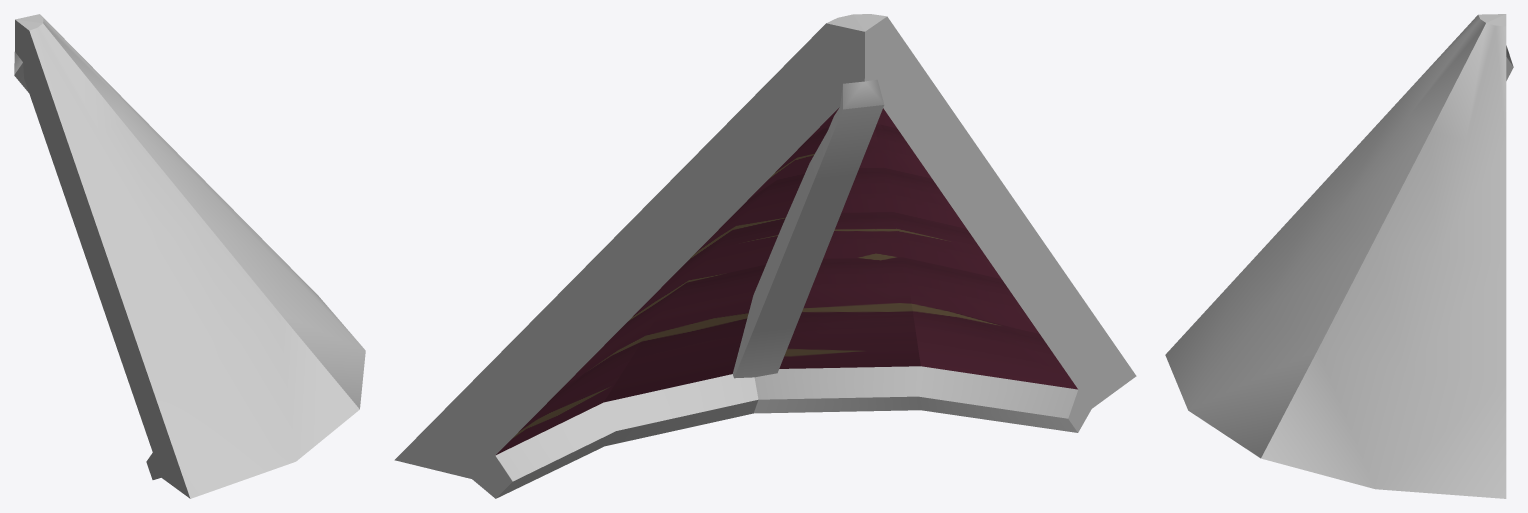
Rendered from SM_Bld_Roof_S_Straight_Corner_Out_02.fbx.
3 renders of one model, left to right at view 1: azimuth 30°, elevation 25°; view 2: azimuth 150°, elevation 25°; view 3: azimuth 270°, elevation 25°, orthographic. The views are drawn at different scales.
Visible parts, largest first — view 1: SM_Bld_Roof_S_Straight_Corner_Out_02; view 2: SM_Bld_Roof_S_Straight_Corner_Out_02; view 3: SM_Bld_Roof_S_Straight_Corner_Out_02.
Boxes of the visible parts, bbox=[...] form: SM_Bld_Roof_S_Straight_Corner_Out_02: bbox=[14, 14, 365, 498]; SM_Bld_Roof_S_Straight_Corner_Out_02: bbox=[394, 14, 1136, 498]; SM_Bld_Roof_S_Straight_Corner_Out_02: bbox=[1165, 14, 1513, 498].
Size of the model in its own units: 139 by 154 by 139.
